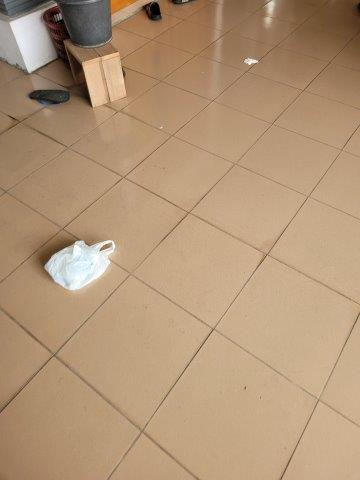plastik: (42, 240, 117, 292)
